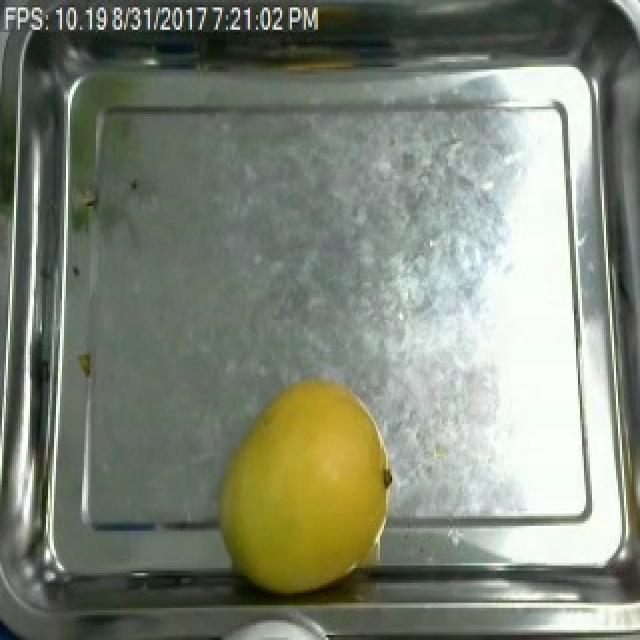fruit: (202, 370, 398, 605)
